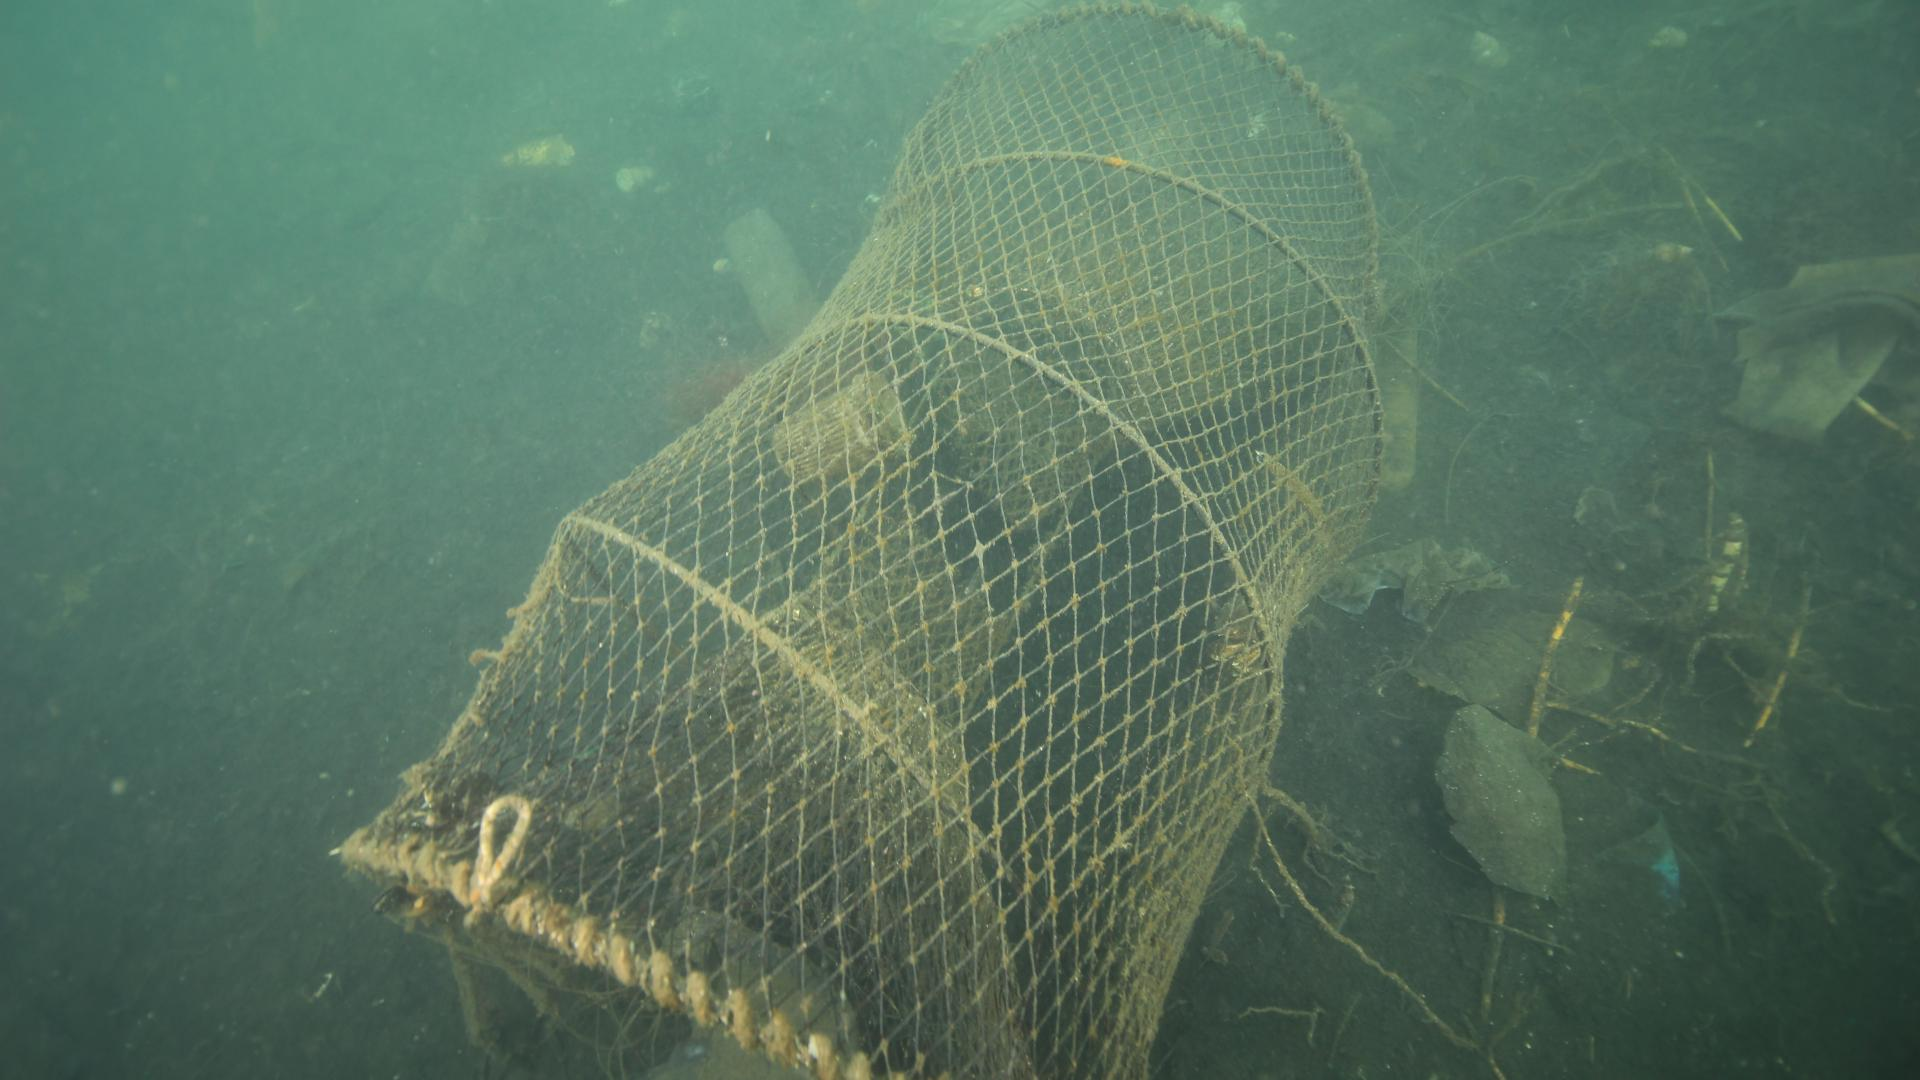spring fish trap: (334, 0, 1390, 1080)
